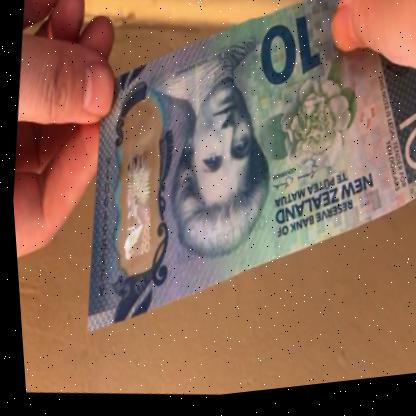10B: (105, 140, 161, 269)
